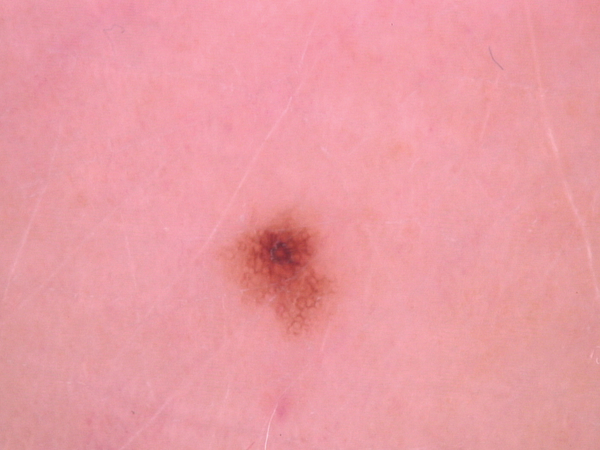Detected Lesion: (219, 205, 338, 342)
